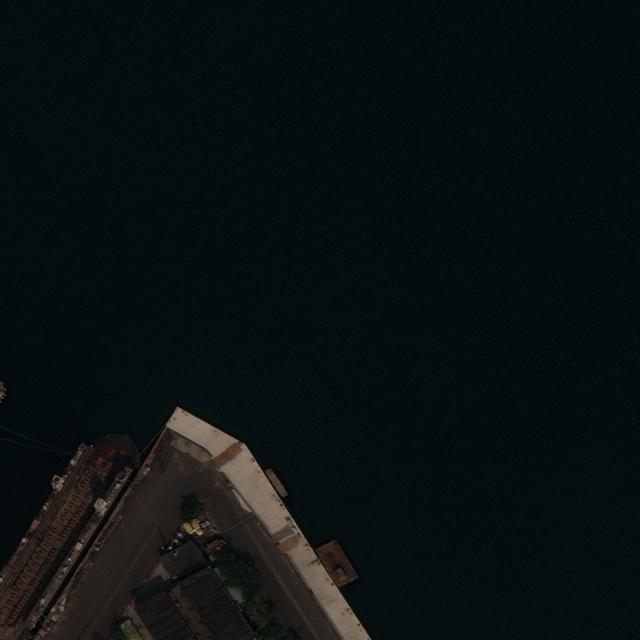Cargo: (1, 433, 141, 639)
